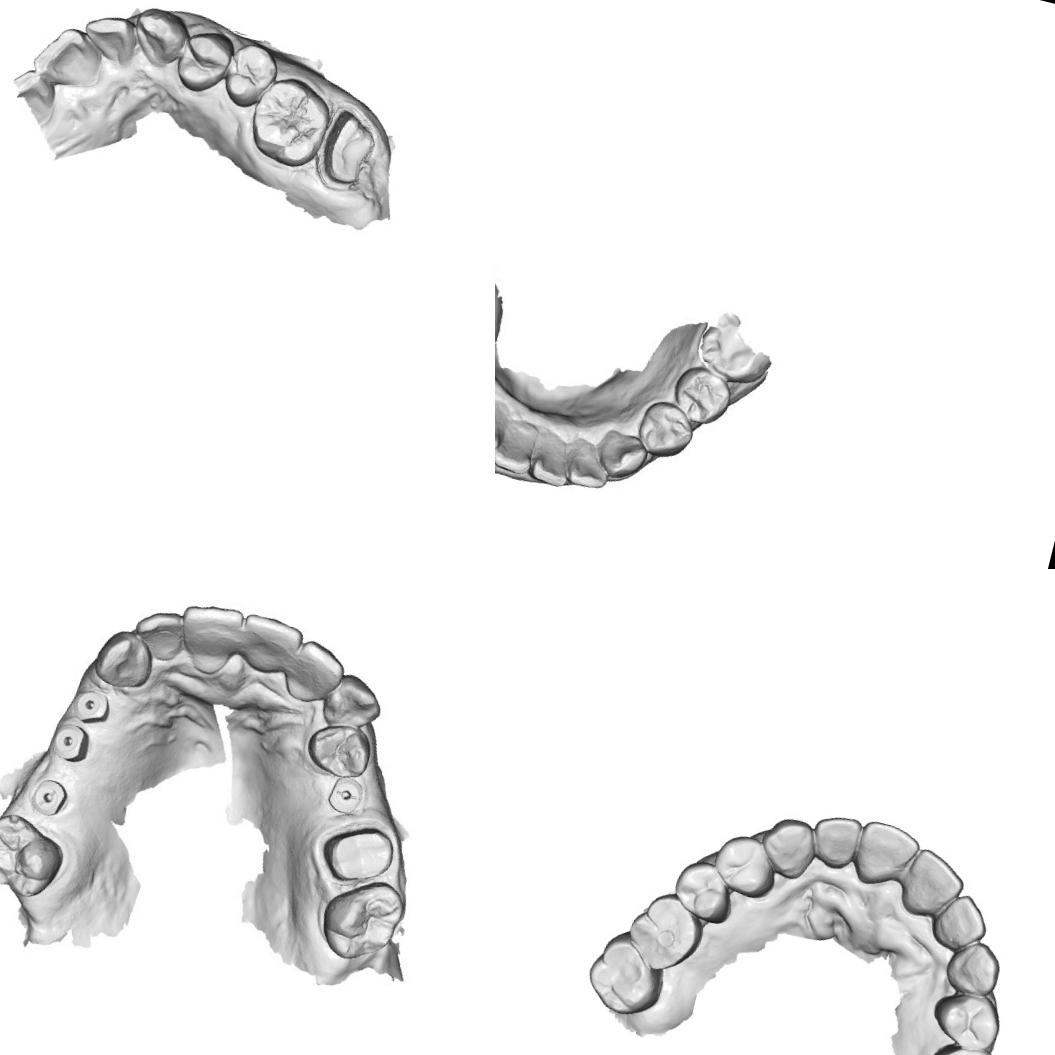canine: (123, 2, 192, 75), (316, 668, 387, 738), (89, 626, 160, 695), (754, 812, 822, 884), (940, 934, 1006, 1000), (593, 426, 651, 484)
crown: (323, 818, 393, 887)
implant: (48, 719, 92, 763), (71, 686, 114, 724)
implant_minus: (320, 771, 366, 814), (28, 772, 70, 818)
incisor: (24, 17, 110, 95), (168, 594, 246, 678), (894, 843, 970, 926), (847, 816, 923, 894), (229, 608, 308, 682), (282, 634, 351, 704), (925, 886, 994, 956), (73, 5, 142, 70), (126, 604, 188, 668), (804, 808, 864, 874), (526, 429, 576, 489), (495, 413, 540, 476), (564, 436, 614, 492), (495, 398, 507, 458)
molar: (239, 68, 336, 174), (311, 869, 410, 972), (580, 927, 672, 1023), (620, 884, 709, 978), (0, 805, 74, 907)
premolar: (927, 985, 1006, 1055), (666, 854, 740, 928), (214, 34, 282, 114), (170, 21, 238, 100), (666, 360, 736, 430), (710, 830, 778, 900), (301, 714, 374, 778), (632, 395, 699, 464), (921, 1038, 1002, 1055)
